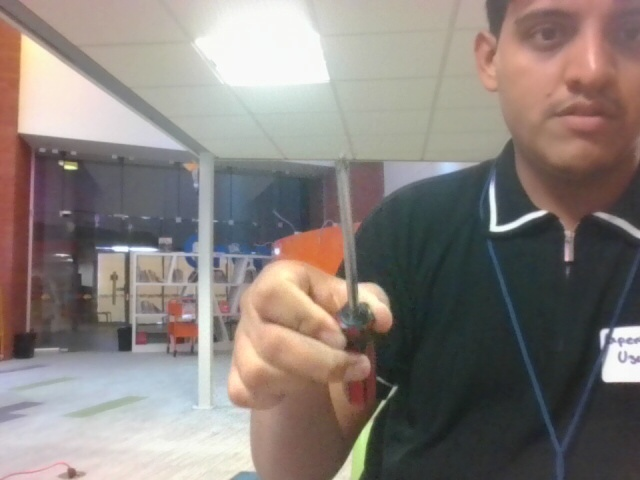destornillador: (334, 154, 377, 408)
